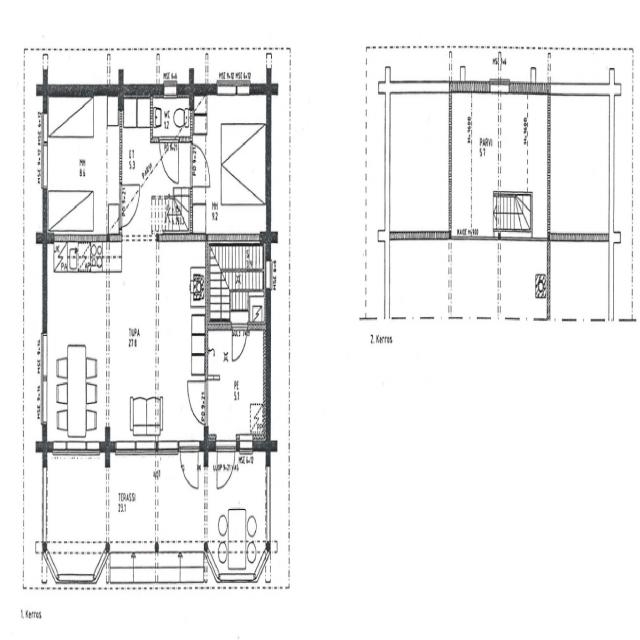door: (185, 381, 208, 424), (180, 440, 198, 492), (217, 441, 235, 492), (190, 144, 211, 186), (160, 136, 178, 184), (120, 185, 140, 227), (232, 323, 247, 361)
